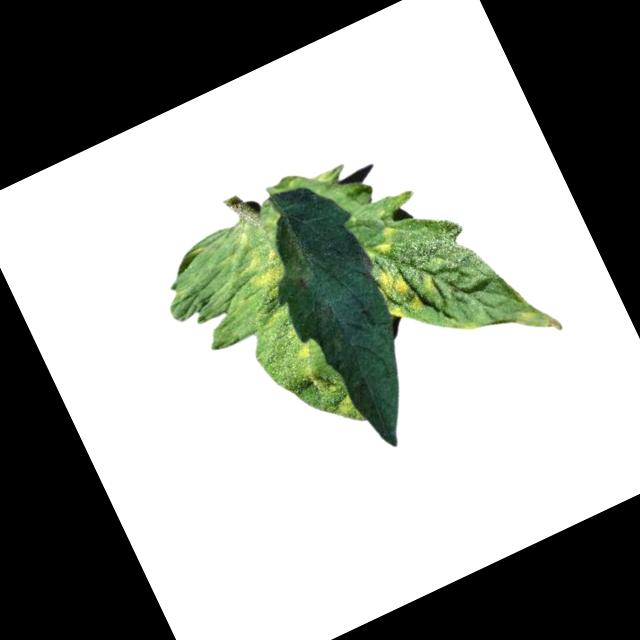Leaf_Mold: (372, 254, 445, 324), (238, 244, 291, 292), (365, 221, 406, 262)
